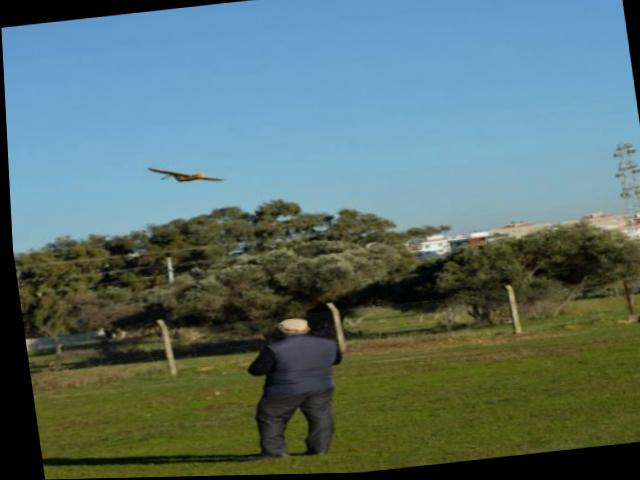iha: (141, 153, 226, 196)
